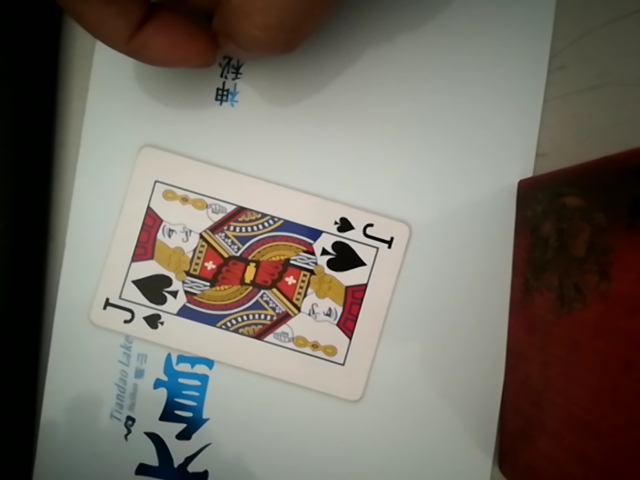ht j: (94, 143, 417, 394)
